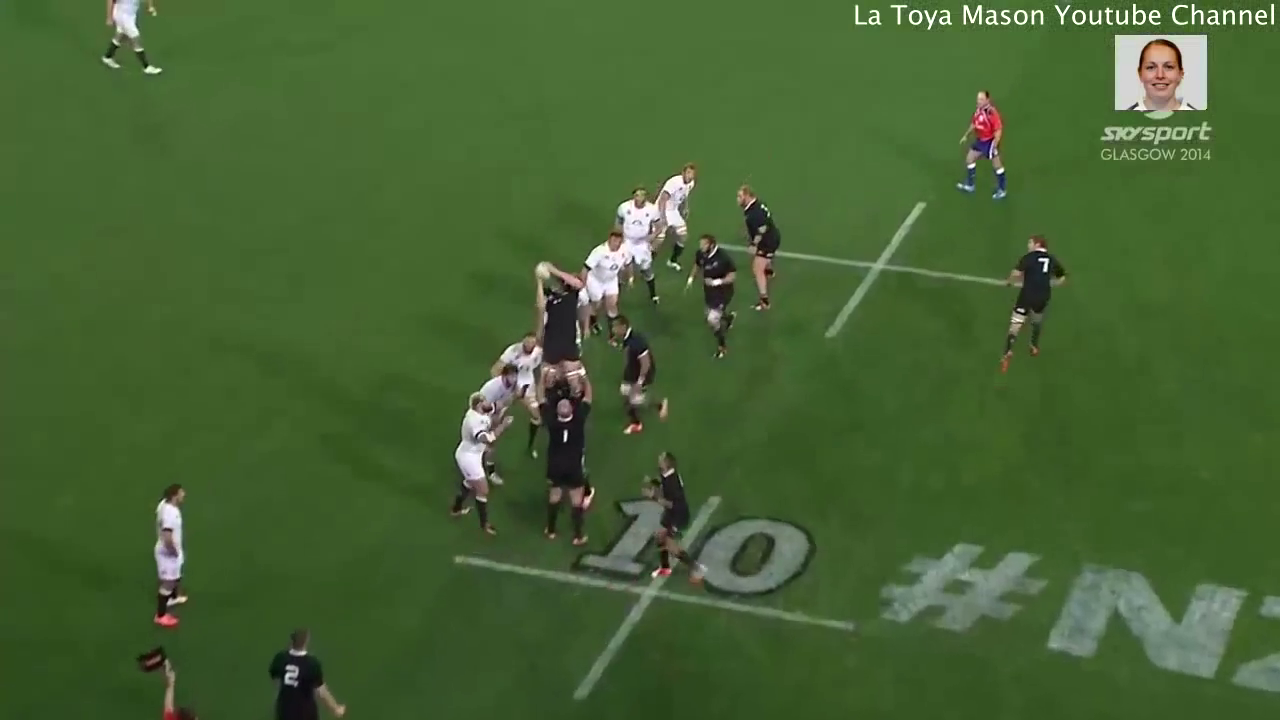ball: (529, 256, 553, 286)
lineout: (398, 143, 791, 616)
player: (990, 231, 1069, 376), (645, 448, 712, 588), (524, 260, 593, 393), (533, 385, 589, 546), (446, 389, 506, 536), (606, 316, 677, 438), (260, 624, 348, 720), (141, 480, 196, 632), (725, 184, 782, 316), (949, 88, 1013, 200), (609, 188, 664, 304), (684, 233, 733, 358), (98, 1, 167, 80), (651, 163, 699, 272), (585, 228, 629, 328), (493, 333, 543, 405), (473, 361, 528, 420)
